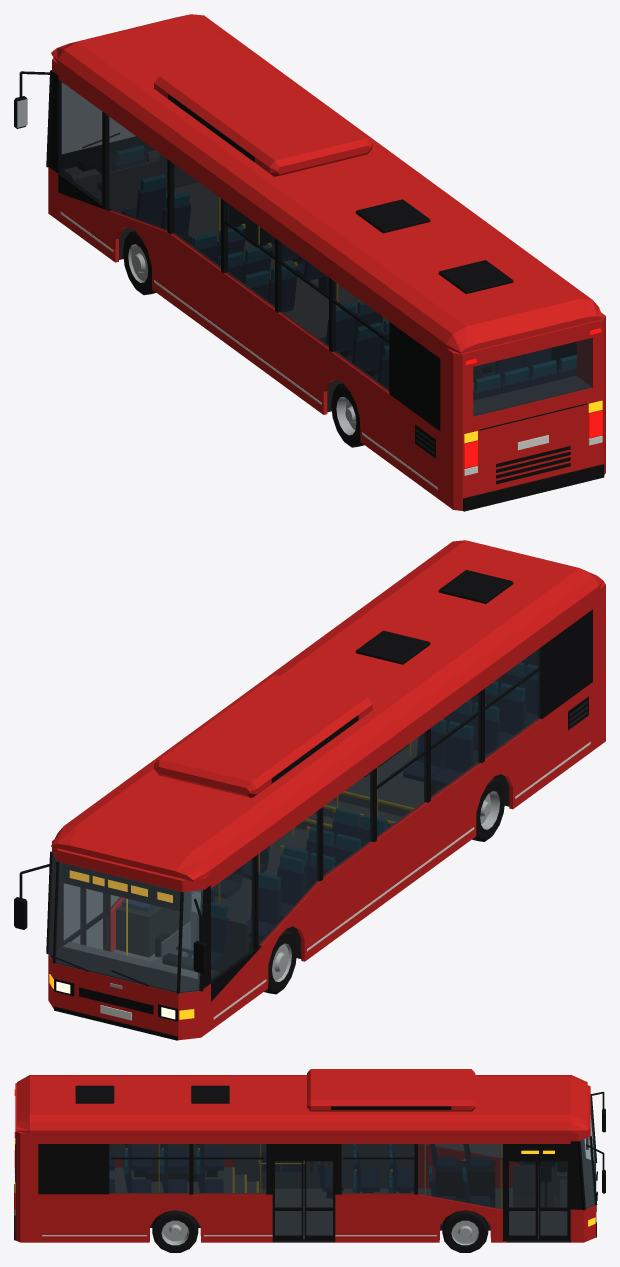
The model's file is bus.glb.
The picture shows the model from 3 angles, top to bottom: view 1: azimuth 30°, elevation 25°; view 2: azimuth 150°, elevation 25°; view 3: azimuth 270°, elevation 25°; orthographic projection. The views are drawn at different scales.
Visible parts, largest first — view 1: hull, glass_13, glass_1, glass_0, glass_5, glass_2, glass_4, glass_3, wheel_rl, wheel_fl; view 2: hull, glass_10, glass_1, glass_0, glass_5, glass_2, glass_4, glass_3, glass_11, wheel_rl, wheel_fl, glass_15 (+1 smaller); view 3: hull, glass_6, glass_9, glass_8, glass_7, glass_14, glass_15, glass_16, glass_17, wheel_rr, wheel_fr, door_front_1 (+5 smaller).
Boxes of the visible parts, <box> form: hull: <box>14,14,605,511</box>; glass_13: <box>473,338,592,416</box>; glass_1: <box>106,114,167,231</box>; glass_0: <box>59,80,102,204</box>; glass_5: <box>333,281,389,392</box>; glass_2: <box>171,162,220,269</box>; glass_4: <box>279,241,328,348</box>; glass_3: <box>225,202,274,309</box>; wheel_rl: <box>331,383,364,447</box>; wheel_fl: <box>123,231,156,295</box>; hull: <box>14,540,605,1040</box>; glass_10: <box>55,862,180,992</box>; glass_1: <box>258,810,319,947</box>; glass_0: <box>211,857,254,981</box>; glass_5: <box>485,647,541,759</box>; glass_2: <box>323,771,372,877</box>; glass_4: <box>431,691,480,799</box>; glass_3: <box>377,731,426,838</box>; glass_11: <box>180,890,202,992</box>; wheel_rl: <box>472,777,505,841</box>; wheel_fl: <box>264,930,297,994</box>; glass_15: <box>86,889,104,949</box>; hull: <box>14,1069,605,1242</box>; glass_6: <box>418,1144,502,1209</box>; glass_9: <box>109,1144,189,1193</box>; glass_8: <box>193,1144,266,1193</box>; glass_7: <box>341,1144,414,1193</box>; glass_14: <box>540,1161,567,1235</box>; glass_15: <box>509,1161,535,1235</box>; glass_16: <box>306,1161,332,1235</box>; glass_17: <box>275,1161,301,1235</box>; wheel_rr: <box>152,1210,198,1252</box>; wheel_fr: <box>442,1211,488,1252</box>; door_front_1: <box>538,1159,569,1240</box>.
Size of the model in its own units: 3.2 by 3.31 by 12.29.
